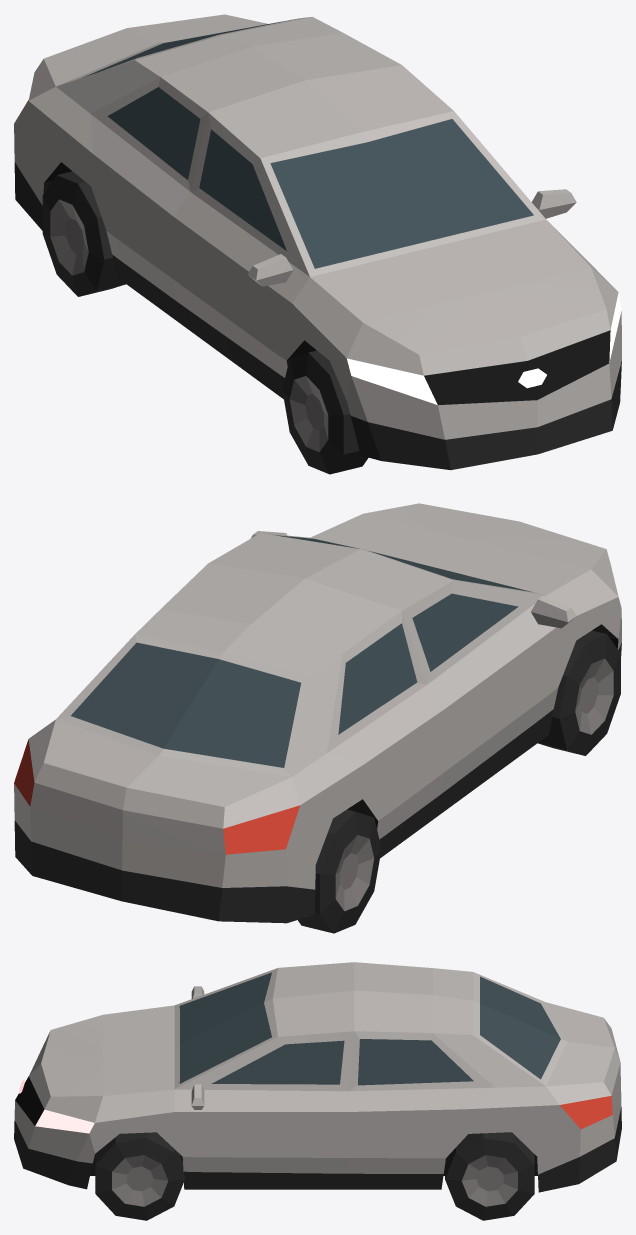
File: vehicles_car-passenger.fbx
3 views of the same model, one above another, from view 1: azimuth 30°, elevation 25°; view 2: azimuth 150°, elevation 25°; view 3: azimuth 270°, elevation 25° (orthographic). The views are drawn at different scales.
Parts seen in each view (by area): view 1: car_passenger_base, car_passenger_wheel_FR, car_passenger_wheel_BR; view 2: car_passenger_base, car_passenger_wheel_FR, car_passenger_wheel_BR; view 3: car_passenger_base, car_passenger_wheel_BL, car_passenger_wheel_FL.
Part boxes in pixels (bbox=[...]): car_passenger_base: bbox=[14, 14, 621, 470]; car_passenger_wheel_FR: bbox=[282, 350, 368, 474]; car_passenger_wheel_BR: bbox=[42, 171, 125, 296]; car_passenger_base: bbox=[14, 503, 621, 923]; car_passenger_wheel_FR: bbox=[538, 630, 620, 755]; car_passenger_wheel_BR: bbox=[298, 809, 381, 933]; car_passenger_base: bbox=[14, 962, 621, 1192]; car_passenger_wheel_BL: bbox=[445, 1132, 534, 1220]; car_passenger_wheel_FL: bbox=[95, 1132, 184, 1220].
Size of the model in its own units: 88.95 by 65.65 by 200.
